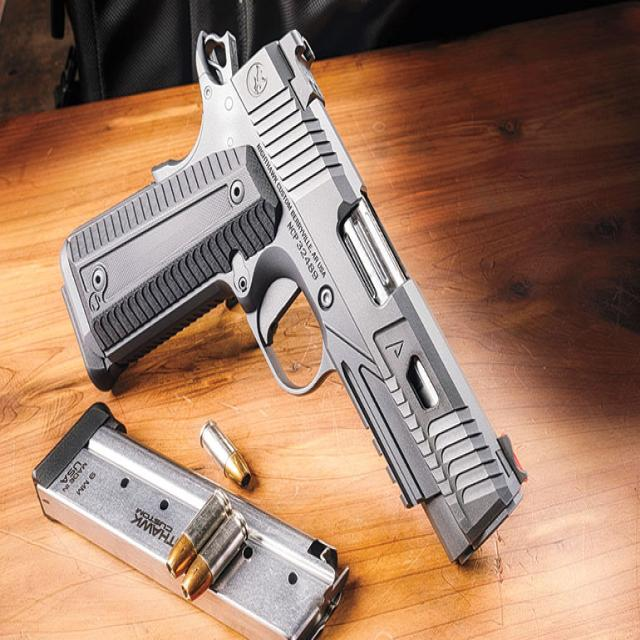HandGun: (59, 31, 524, 564)
